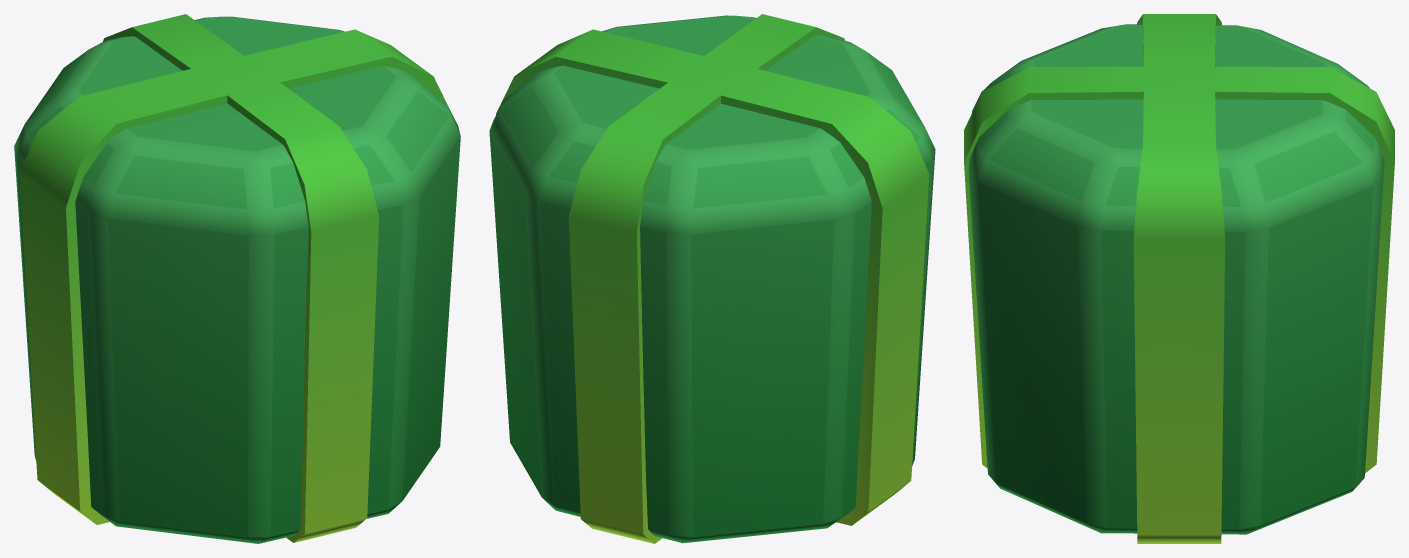
The model's file is giftbox_019.fbx.
The picture shows the model from 3 angles, left to right: view 1: azimuth 30°, elevation 25°; view 2: azimuth 150°, elevation 25°; view 3: azimuth 270°, elevation 25°; orthographic projection.
Visible parts, largest first — view 1: giftbox_019; view 2: giftbox_019; view 3: giftbox_019.
Part boxes in pixels (x1,y1,x2,y2): giftbox_019: [14, 14, 460, 543]; giftbox_019: [489, 14, 935, 543]; giftbox_019: [964, 14, 1394, 543].
Bounding box in the file's own units: 236 × 232 × 231.
